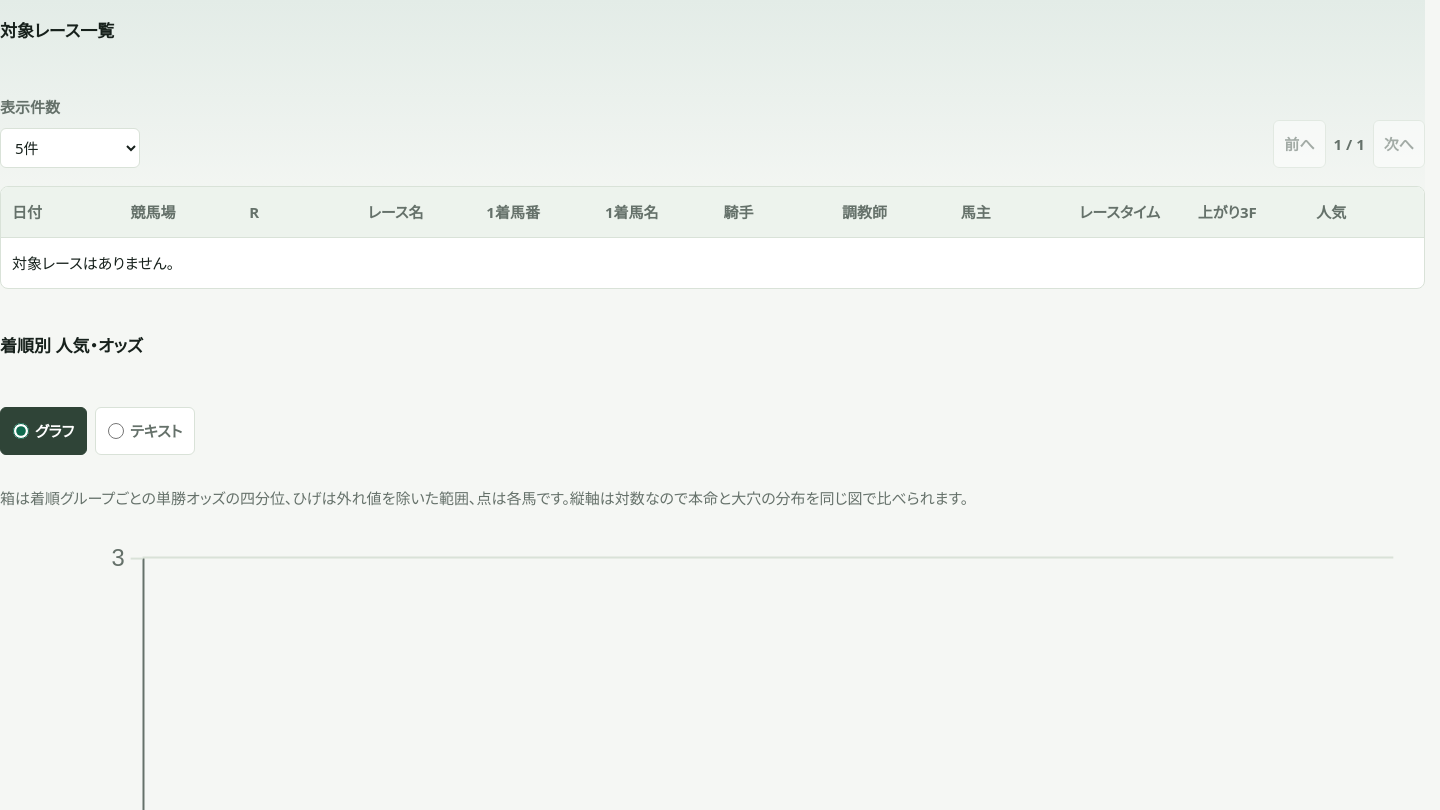
Test case: switches the finish section to the table when テキスト is checked
The image size is (1440, 810).
Click the radio button labelled "テキスト": (116, 431) top-left (108, 423), bottom-right (124, 439)
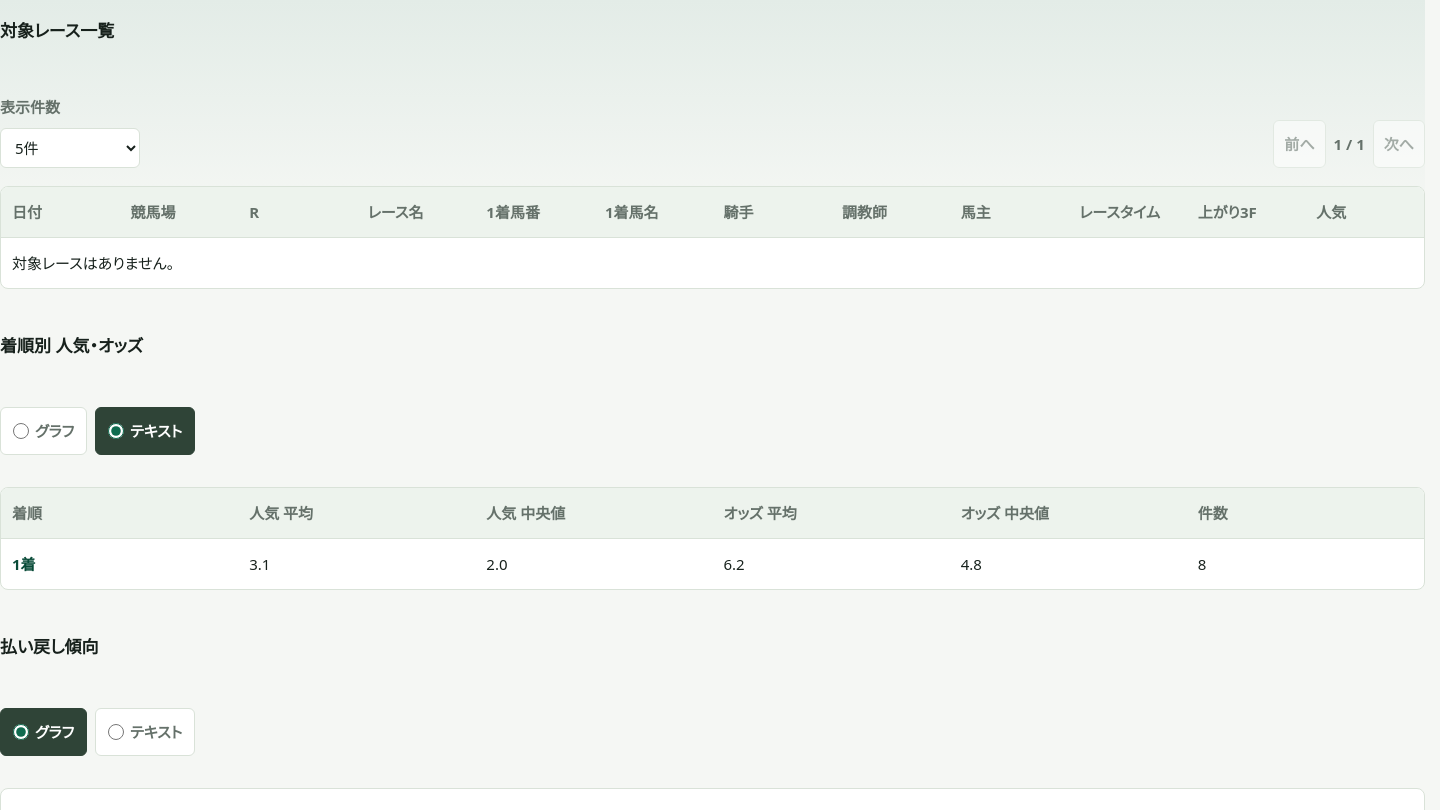
Check: the column heading "着順" is shown, box top-left (1, 488), bottom-right (238, 538)
Check: the radio button labelled "テキスト" below "着順別 人気・オッズ" is checked, box top-left (108, 423), bottom-right (124, 439)
Check: the radio button labelled "グラフ" below "着順別 人気・オッズ" is not checked
Click the radio button labelled "グラフ" below "着順別 人気・オッズ": (21, 431) top-left (13, 423), bottom-right (29, 439)
(page scrolled)
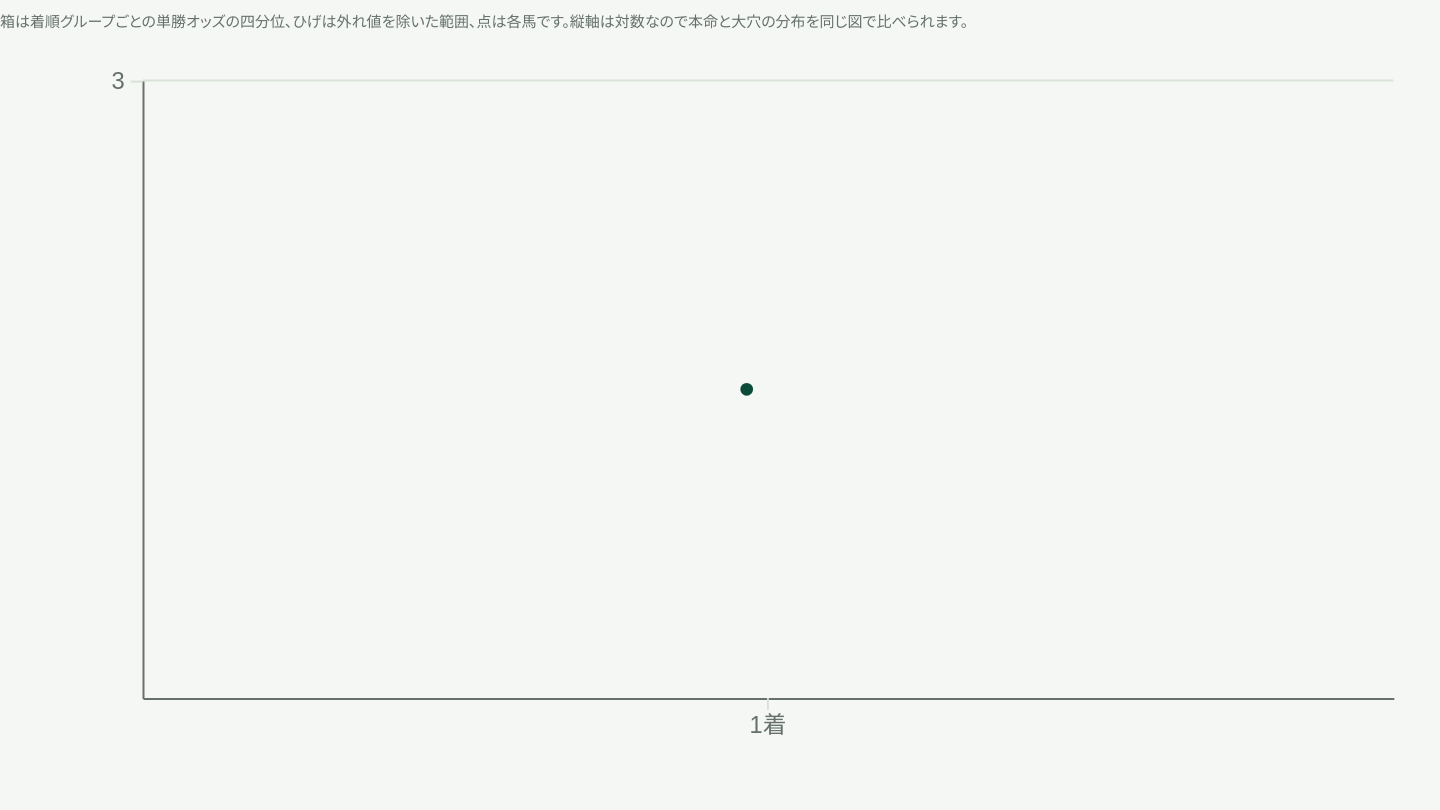
Check: the element named "着順別人気オッズグラフ" is shown
